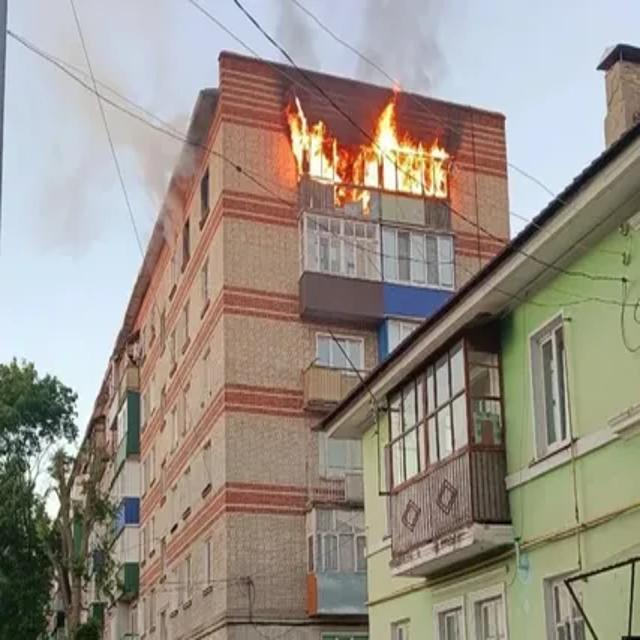Smoke: (274, 4, 472, 142), (85, 67, 206, 270)
